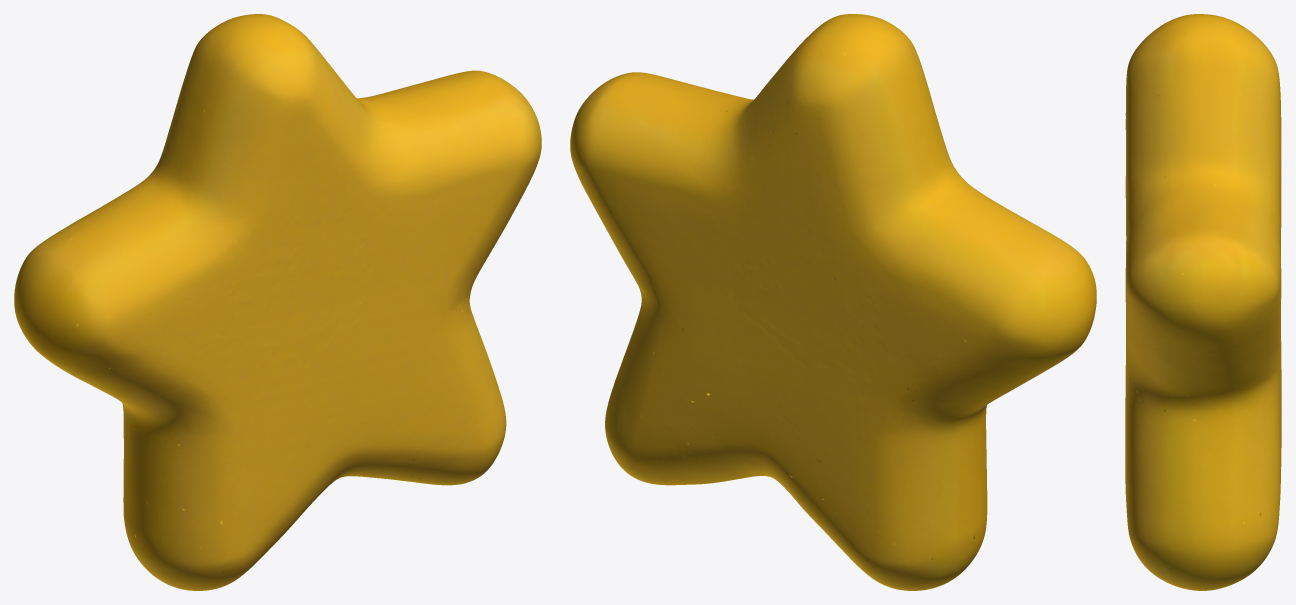
File: Star.glb
3 views of the same model, side by side, from view 1: azimuth 30°, elevation 25°; view 2: azimuth 150°, elevation 25°; view 3: azimuth 270°, elevation 25° (orthographic). The views are drawn at different scales.
Size of the model in its own units: 1.93 by 2 by 0.5446.
1 material, 1 textured.
